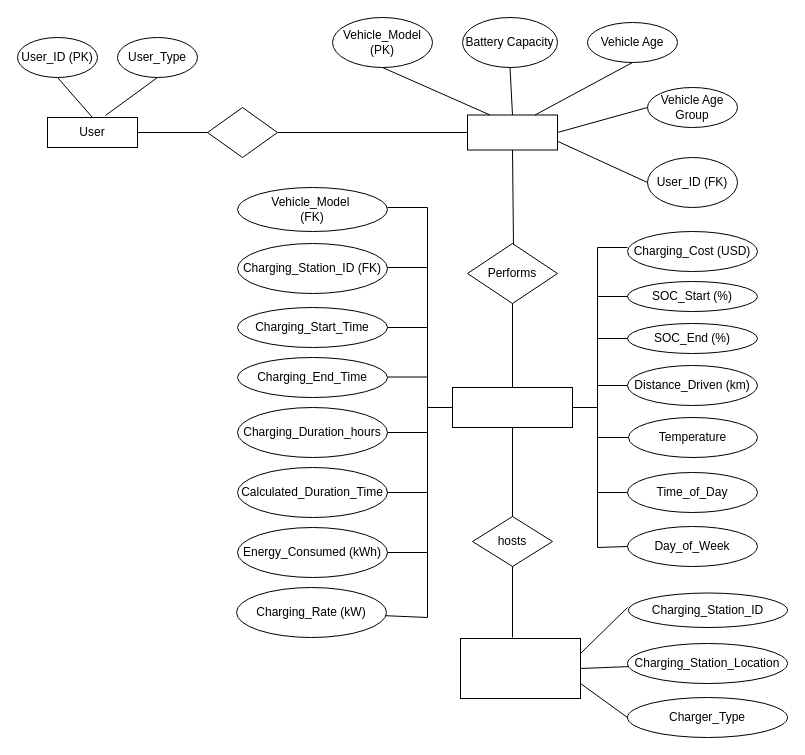
This 805x755 diagram has some shape labels left out. Each missing label, with the box of its shape:
Charging Session: (452, 386, 572, 428)
Charging_Station: (460, 638, 580, 698)
owns: (206, 106, 278, 158)
Vehicle: (466, 114, 558, 150)
